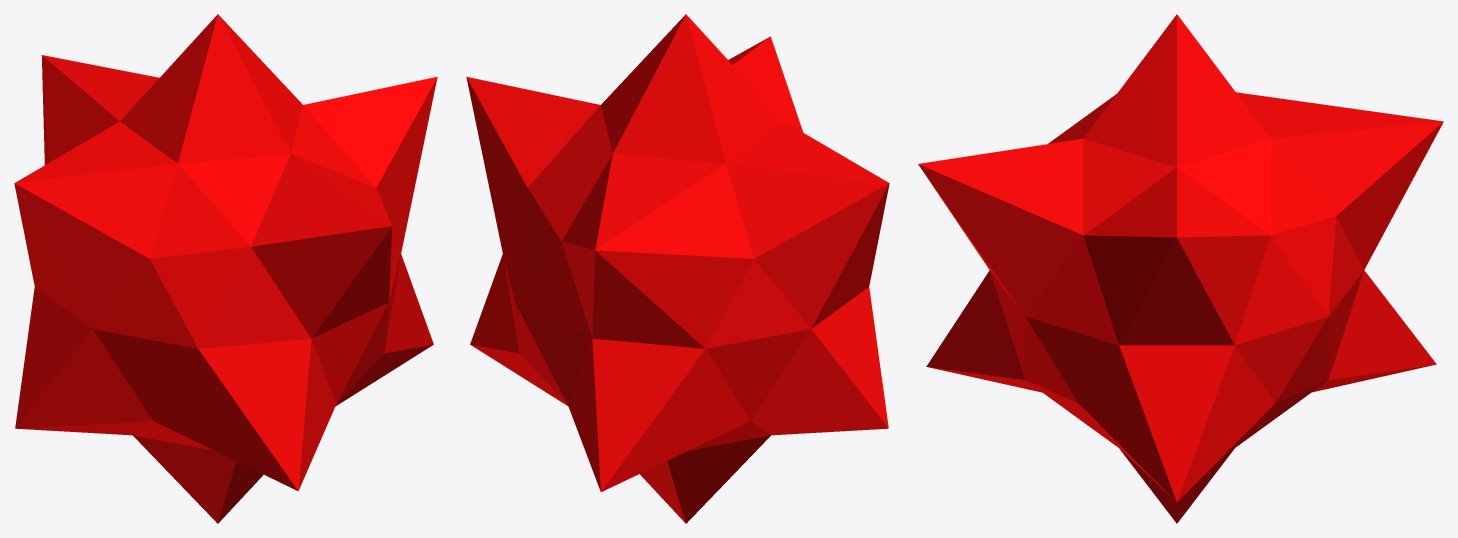
Rendered from testEnemy_02.fbx.
3 renders of one model, left to right at view 1: azimuth 30°, elevation 25°; view 2: azimuth 150°, elevation 25°; view 3: azimuth 270°, elevation 25°, orthographic.
Visible parts, largest first — view 1: ICO球; view 2: ICO球; view 3: ICO球.
Part boxes in pixels (<box>): ICO球: <box>14,14,437,523</box>; ICO球: <box>466,14,889,523</box>; ICO球: <box>918,14,1443,523</box>.
Bounding box in the file's own units: 5.65 × 6.5 × 6.08.
